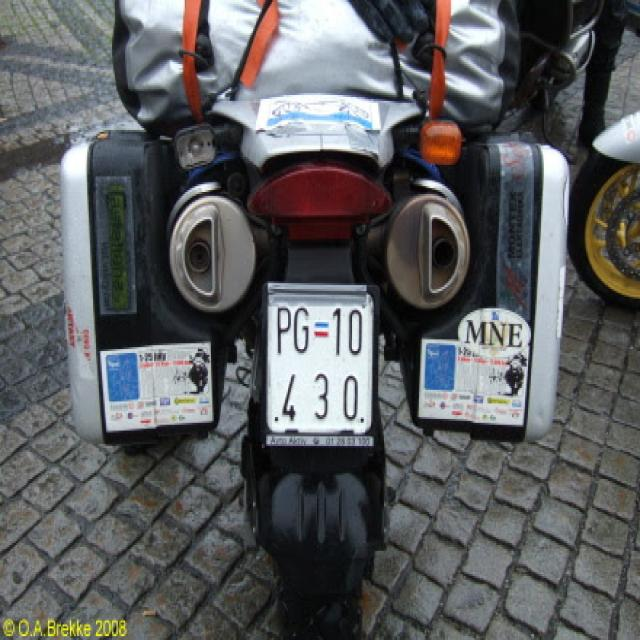number plate: (259, 280, 377, 440)
